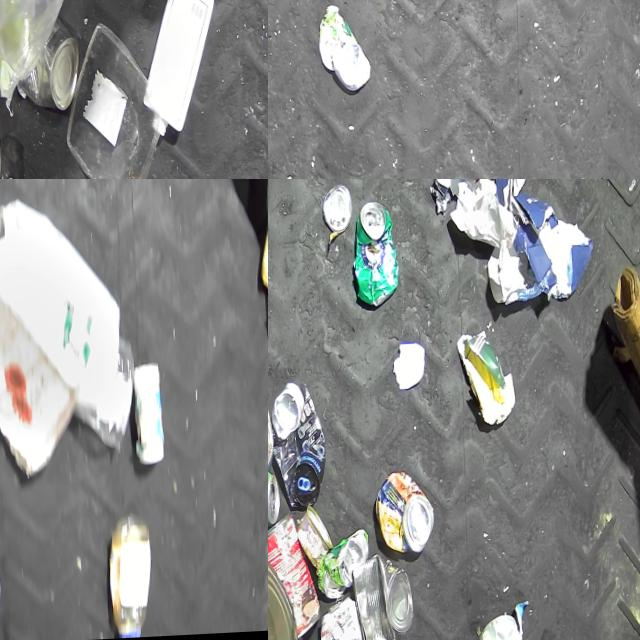can: (268, 382, 324, 510), (268, 515, 317, 640), (13, 19, 77, 111), (346, 554, 410, 640), (371, 473, 431, 558), (351, 202, 398, 310), (313, 531, 367, 603), (293, 508, 330, 571), (315, 598, 369, 640), (268, 558, 295, 640), (321, 186, 351, 236), (472, 618, 519, 640)
milk_jug: (0, 196, 119, 411), (133, 0, 215, 143)
